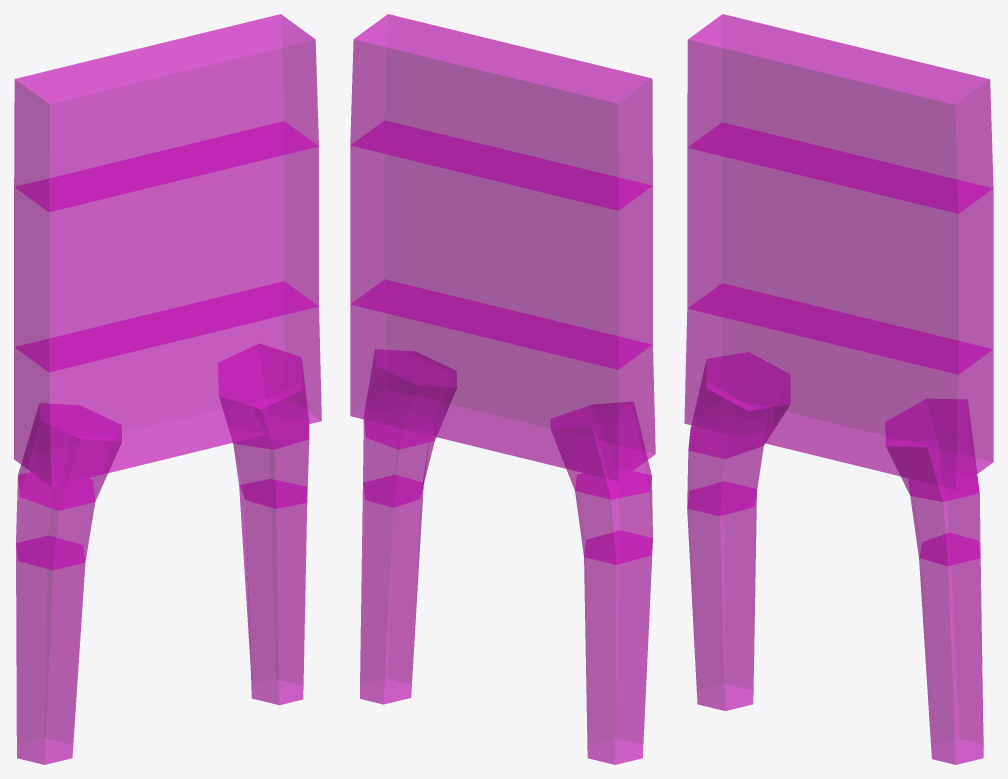
File: SM_Bld_Wall_Door_Large_01_Collision.fbx
The picture shows the model from 3 angles, left to right: view 1: azimuth 30°, elevation 25°; view 2: azimuth 150°, elevation 25°; view 3: azimuth 330°, elevation 25°; orthographic projection.
Parts seen in each view (by area): view 1: SM_Bld_Wall_Door_Large_01_Collision; view 2: SM_Bld_Wall_Door_Large_01_Collision; view 3: SM_Bld_Wall_Door_Large_01_Collision.
Boxes of the visible parts, bbox=[...] form: SM_Bld_Wall_Door_Large_01_Collision: bbox=[14, 14, 321, 764]; SM_Bld_Wall_Door_Large_01_Collision: bbox=[350, 14, 655, 764]; SM_Bld_Wall_Door_Large_01_Collision: bbox=[684, 14, 993, 764].
Size of the model in its own units: 551 by 1210 by 145.
